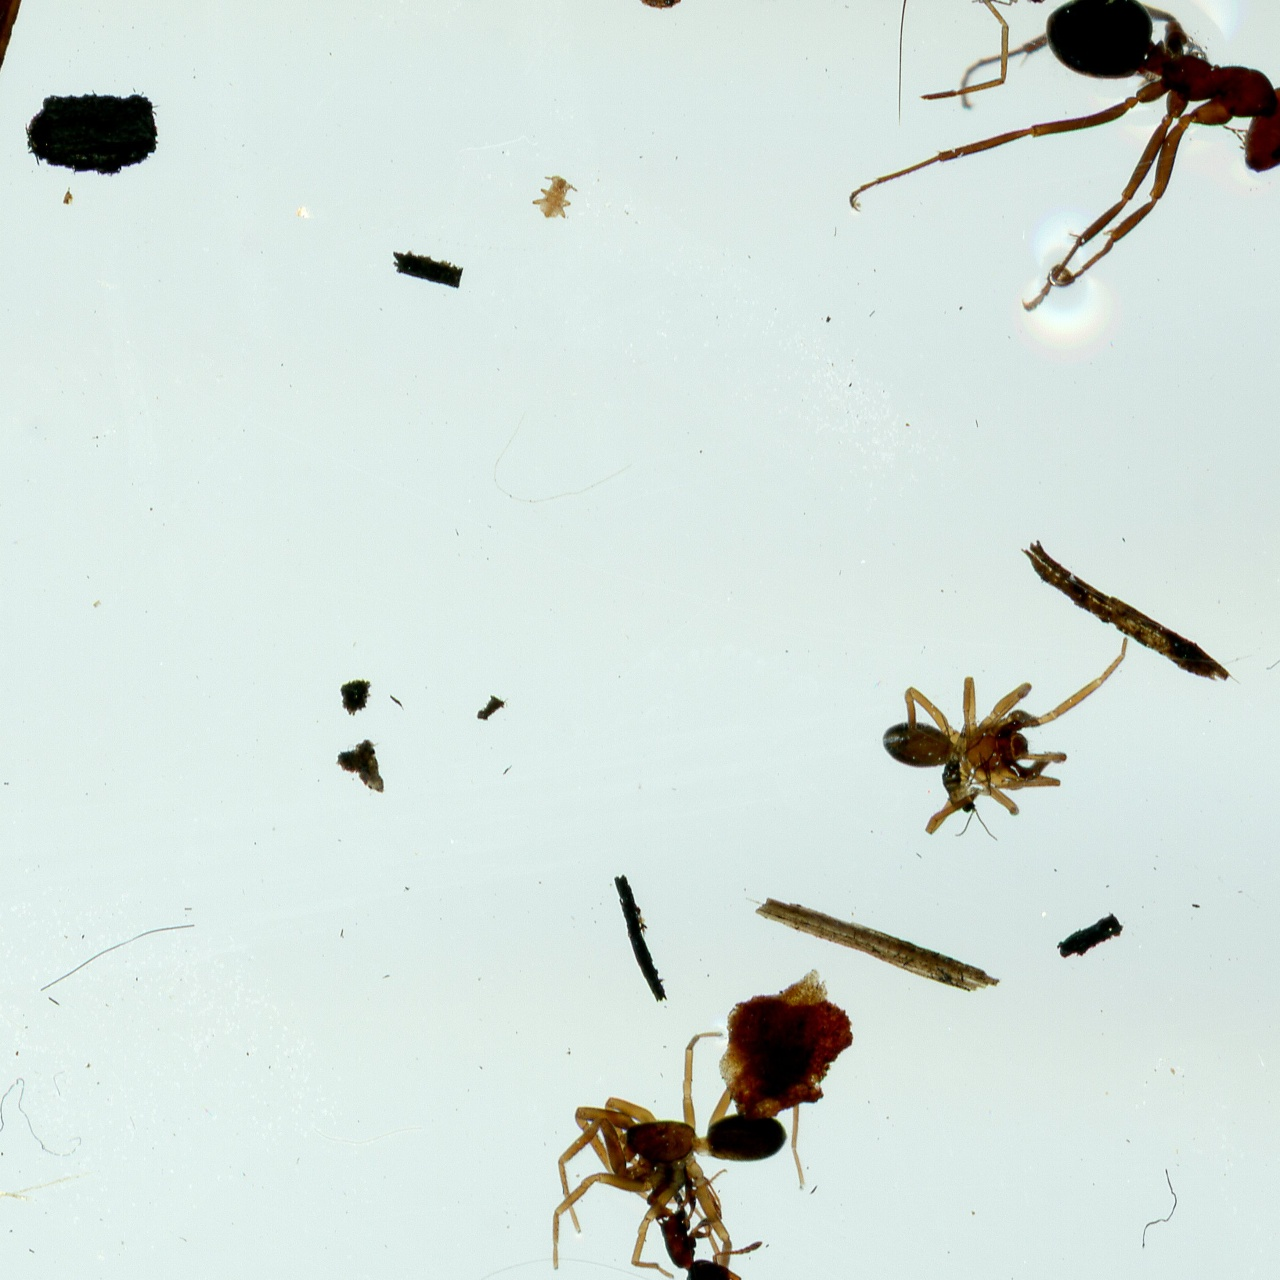arthropod: (847, 0, 1280, 320), (547, 1026, 807, 1280), (881, 633, 1132, 837), (603, 1142, 810, 1280), (936, 717, 1005, 845), (533, 175, 579, 220), (718, 0, 840, 8)
